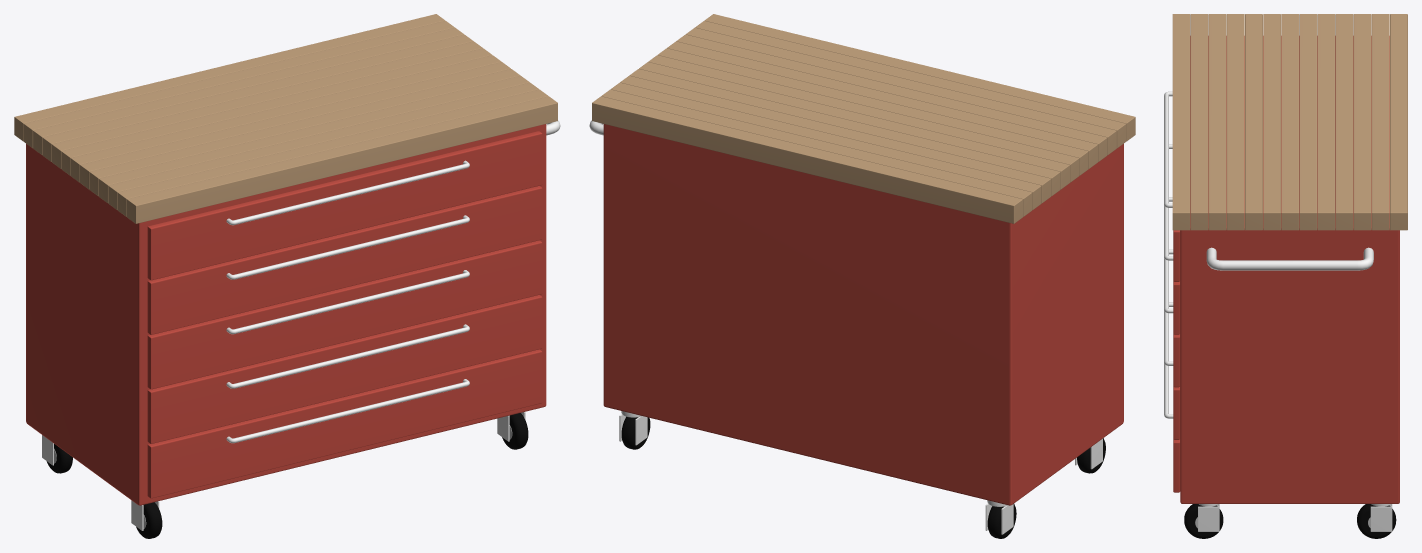
The model's file is industrial.workshop.bench_mobile.glb.
3 views of the same model, side by side, from view 1: azimuth 30°, elevation 25°; view 2: azimuth 150°, elevation 25°; view 3: azimuth 270°, elevation 25° (orthographic). The views are drawn at different scales.
Parts seen in each view (by area): view 1: main__paint_c44, main__timber_ca7, main__chrome_eee, main__rubber; view 2: main__paint_c44, main__timber_ca7, main__chrome_eee, main__rubber; view 3: main__paint_c44, main__timber_ca7, main__chrome_eee, main__rubber.
Boxes of the visible parts, bbox=[...] form: main__paint_c44: bbox=[26, 124, 546, 505]; main__timber_ca7: bbox=[14, 14, 557, 223]; main__chrome_eee: bbox=[42, 120, 560, 530]; main__rubber: bbox=[46, 413, 528, 538]; main__paint_c44: bbox=[603, 124, 1123, 505]; main__timber_ca7: bbox=[592, 14, 1135, 223]; main__chrome_eee: bbox=[589, 120, 1102, 534]; main__rubber: bbox=[621, 416, 1105, 538]; main__paint_c44: bbox=[1173, 36, 1399, 503]; main__timber_ca7: bbox=[1172, 14, 1407, 230]; main__chrome_eee: bbox=[1164, 91, 1392, 531]; main__rubber: bbox=[1184, 504, 1396, 538].
Size of the model in its own units: 1.27 by 0.95 by 0.6206.
